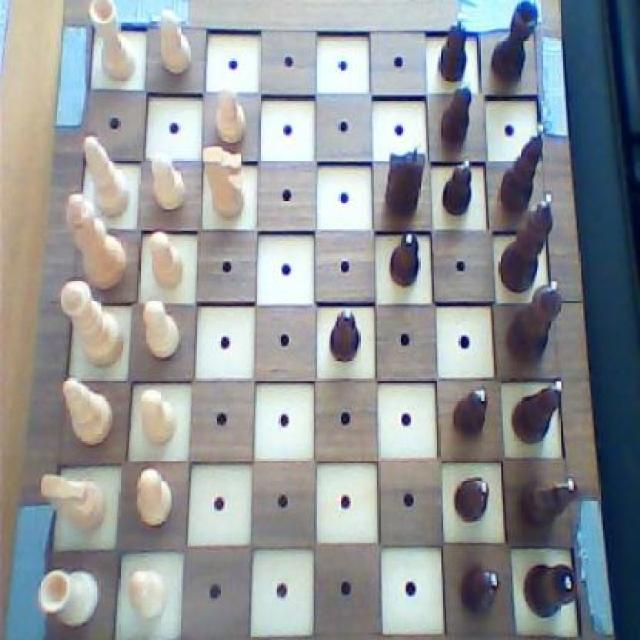bishop: (496, 122, 546, 215), (514, 472, 578, 538)
black-bishop: (495, 188, 553, 294)
black-king: (381, 143, 427, 222)
black-knight: (434, 8, 471, 83), (446, 383, 489, 443), (437, 83, 475, 148), (438, 157, 477, 218), (458, 560, 500, 616), (386, 228, 422, 292), (328, 304, 363, 368), (452, 474, 490, 524)
black-pawn: (502, 277, 562, 371), (510, 378, 566, 450)
black-queen: (486, 0, 543, 85), (520, 554, 582, 621)
black-rook: (80, 134, 132, 221), (60, 376, 115, 448)
white-bishop: (65, 191, 129, 295)
white-king: (40, 466, 111, 539), (202, 144, 250, 220)
white-knight: (132, 462, 175, 528), (149, 148, 188, 215), (156, 5, 192, 76), (143, 297, 182, 362), (147, 228, 186, 292), (138, 386, 178, 447), (128, 566, 168, 623), (215, 85, 247, 146)
white-pawn: (58, 278, 125, 372)
white-queen: (88, 0, 140, 83), (36, 566, 100, 631)
